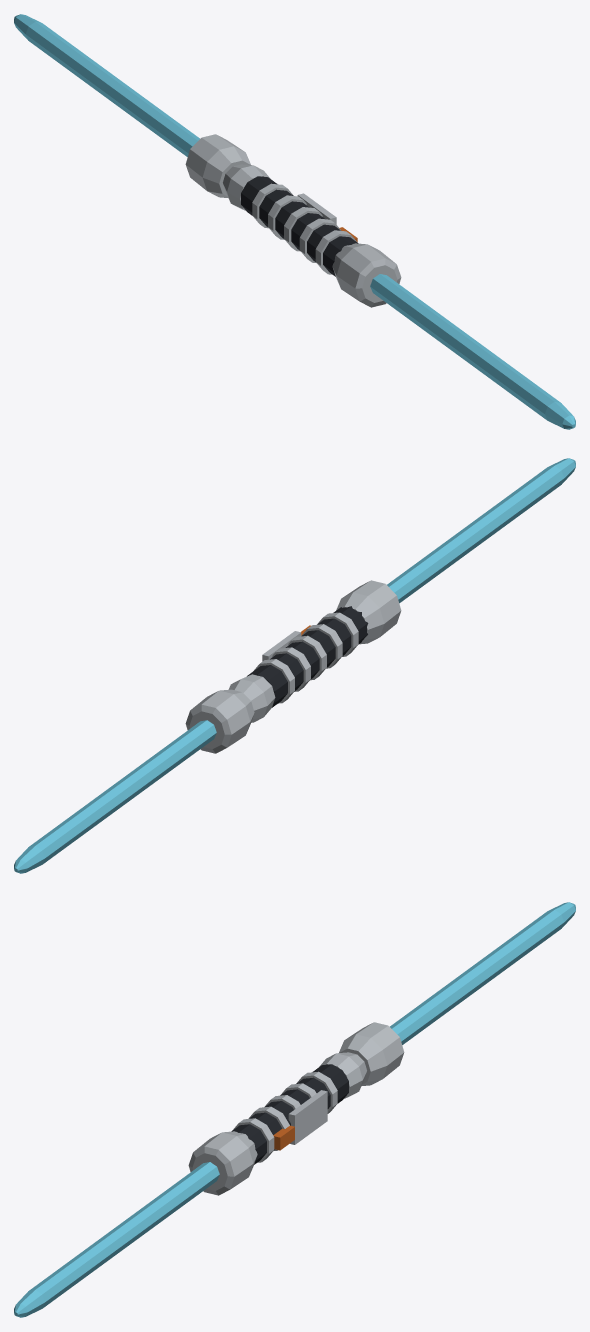
Rendered from saber-double.glb.
The picture shows the model from 3 angles, top to bottom: view 1: azimuth 30°, elevation 25°; view 2: azimuth 150°, elevation 25°; view 3: azimuth 330°, elevation 25°; orthographic projection.
Parts seen in each view (by area): view 1: m; view 2: m; view 3: m.
Part boxes in pixels (<box>): m: <box>14,14,575,429</box>; m: <box>14,458,575,873</box>; m: <box>14,902,575,1317</box>.
Bounding box in the file's own units: 0.0265 × 0.0252 × 0.5352.
